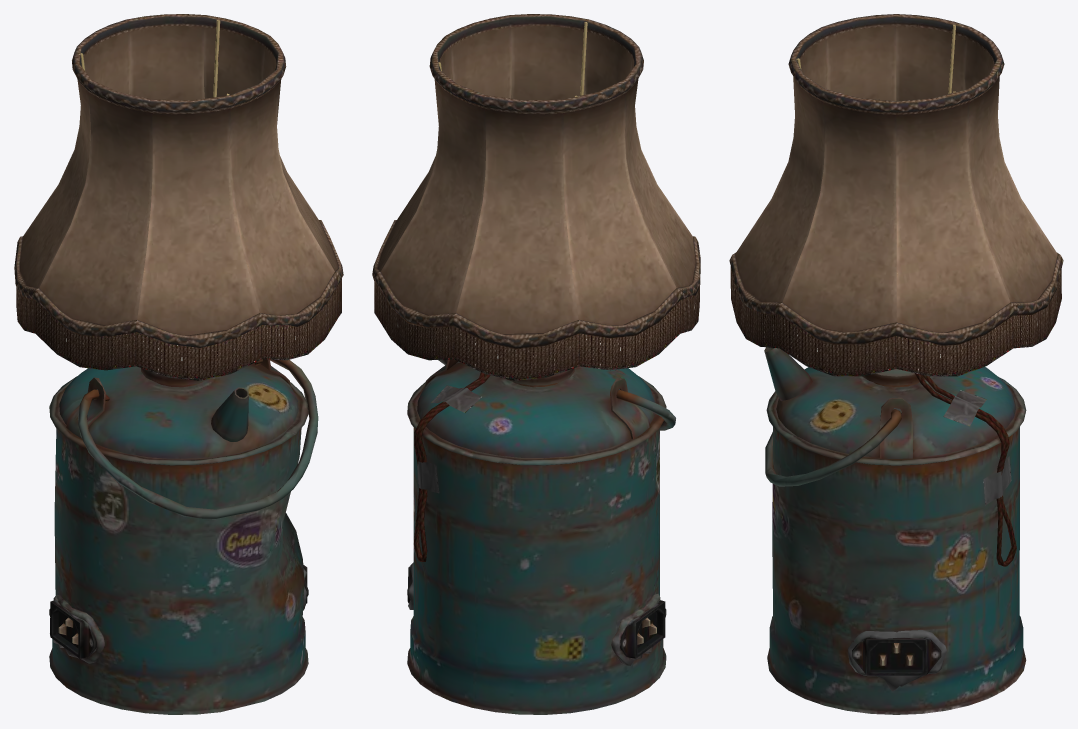
The model's file is electric.tablelamp.static.glb.
3 renders of one model, left to right at view 1: azimuth 30°, elevation 25°; view 2: azimuth 150°, elevation 25°; view 3: azimuth 270°, elevation 25°, orthographic.
Parts seen in each view (by area): view 1: electric.tablelamp.static; view 2: electric.tablelamp.static; view 3: electric.tablelamp.static.
Boxes of the visible parts, x1=… form: electric.tablelamp.static: x1=14, y1=14, x2=343, y2=714; electric.tablelamp.static: x1=372, y1=14, x2=700, y2=714; electric.tablelamp.static: x1=729, y1=14, x2=1063, y2=714.
Size of the model in its own units: 0.3249 by 0.6453 by 0.3249.
Materials: 1 (1 with a texture image).
